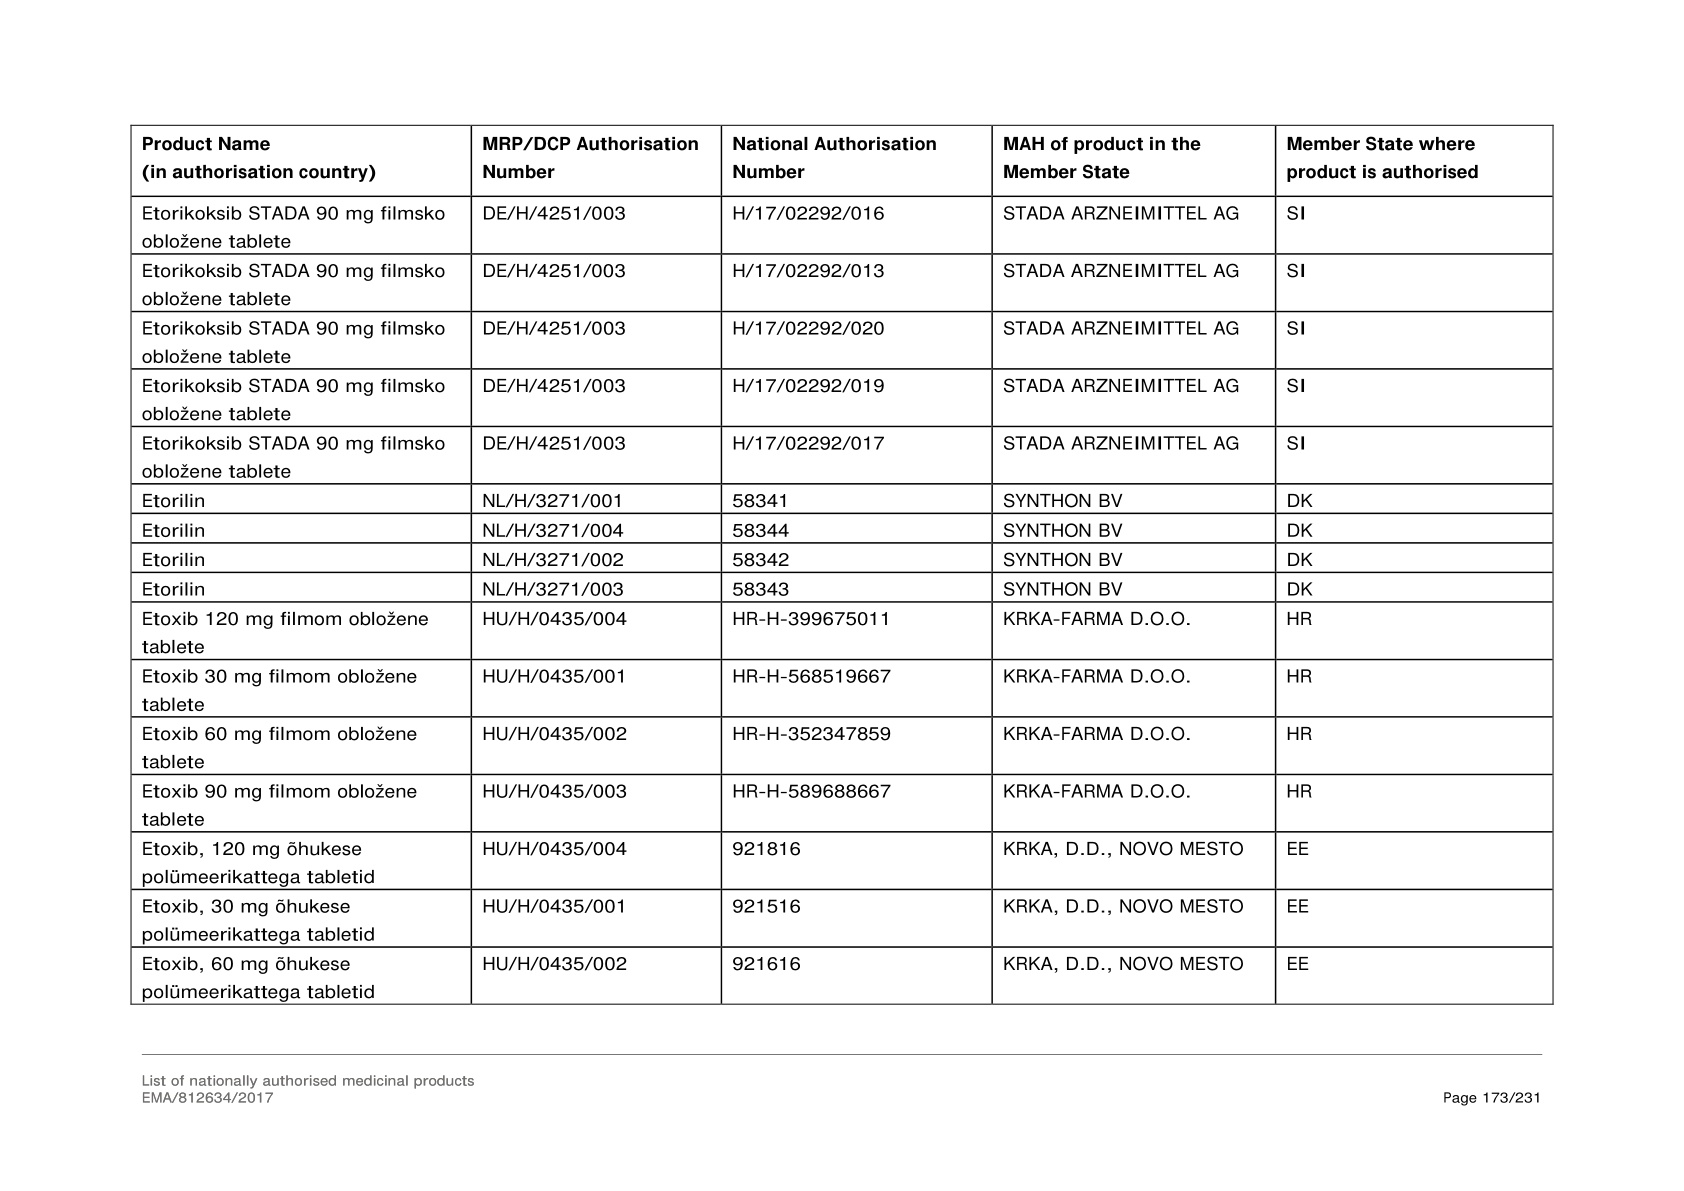full_lined: (130, 124, 1554, 1005)
